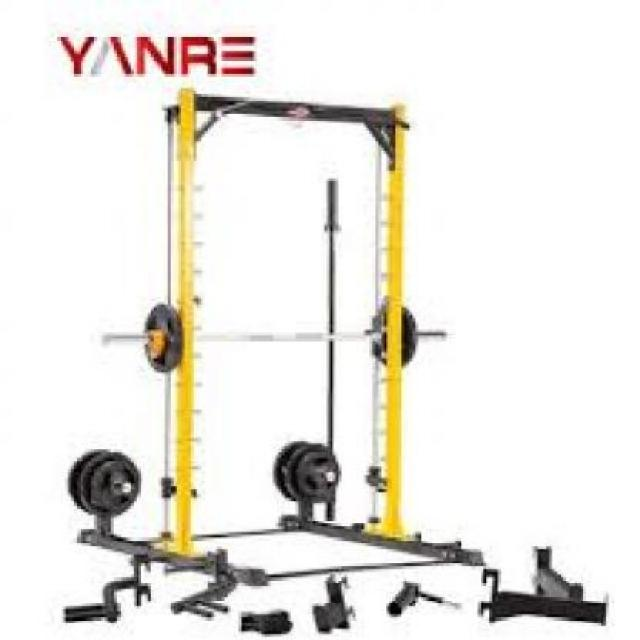smith machine: (102, 83, 490, 577)
